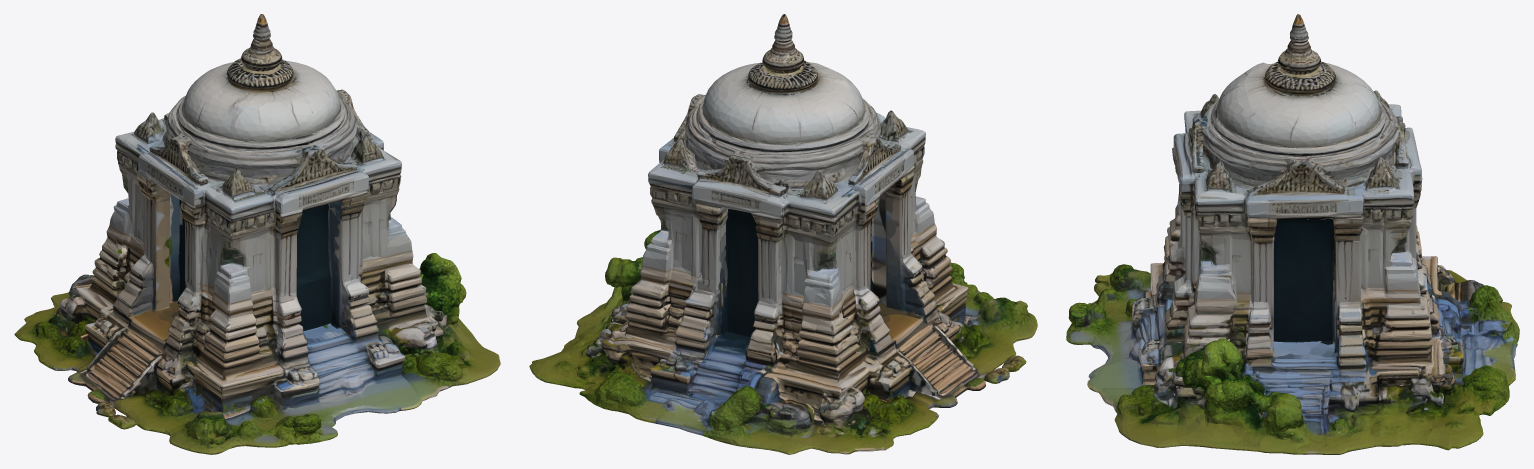
Rendered from fractured-granite-gopuram-capstone-optimized.glb.
3 renders of one model, left to right at view 1: azimuth 30°, elevation 25°; view 2: azimuth 150°, elevation 25°; view 3: azimuth 270°, elevation 25°, orthographic. The views are drawn at different scales.
Parts seen in each view (by area): view 1: 6cdb4772-a3a9-420d-9968-4ac0020d7143_texturing.obj; view 2: 6cdb4772-a3a9-420d-9968-4ac0020d7143_texturing.obj; view 3: 6cdb4772-a3a9-420d-9968-4ac0020d7143_texturing.obj.
Boxes of the visible parts, x1,y1,x2,y2 form: 6cdb4772-a3a9-420d-9968-4ac0020d7143_texturing.obj: (14, 14, 500, 454); 6cdb4772-a3a9-420d-9968-4ac0020d7143_texturing.obj: (529, 14, 1037, 454); 6cdb4772-a3a9-420d-9968-4ac0020d7143_texturing.obj: (1066, 14, 1519, 454).
Bounding box in the file's own units: 2.49 × 2.12 × 2.5.
Materials: 1 (1 with a texture image).
